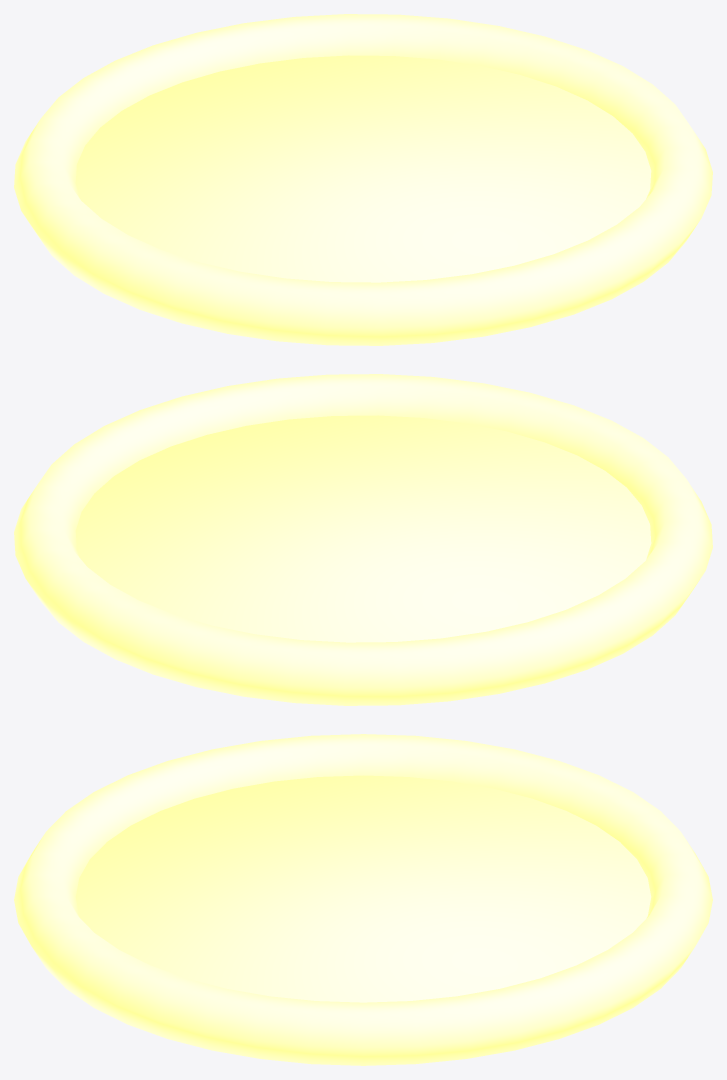
The model's file is seat-glow.glb.
3 views of the same model, one above another, from view 1: azimuth 30°, elevation 25°; view 2: azimuth 150°, elevation 25°; view 3: azimuth 270°, elevation 25° (orthographic).
Parts seen in each view (by area): view 1: SeatGlow; view 2: SeatGlow; view 3: SeatGlow.
Part boxes in pixels (x1,y1,x2,y2): SeatGlow: (14, 14, 712, 345); SeatGlow: (14, 374, 712, 705); SeatGlow: (14, 734, 712, 1065).
Bounding box in the file's own units: 0.033 × 0.0026 × 0.033.
